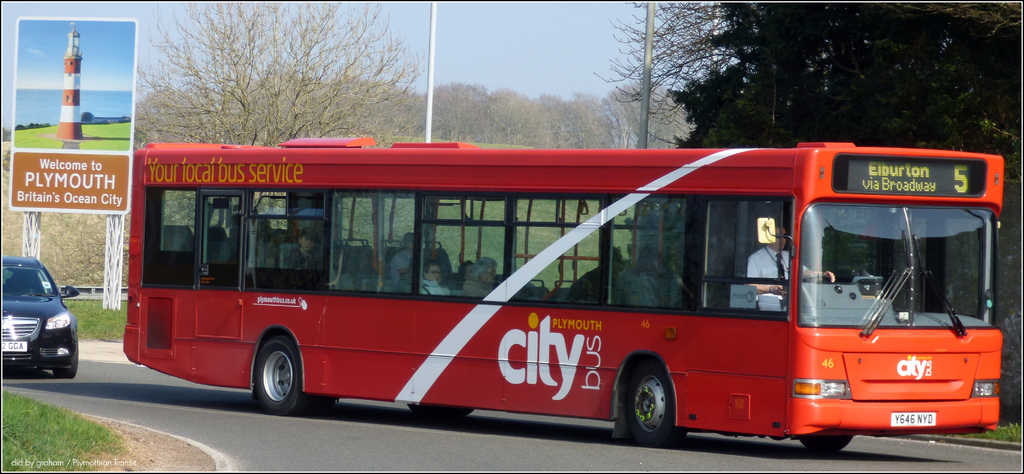Car: (2, 244, 81, 388)
